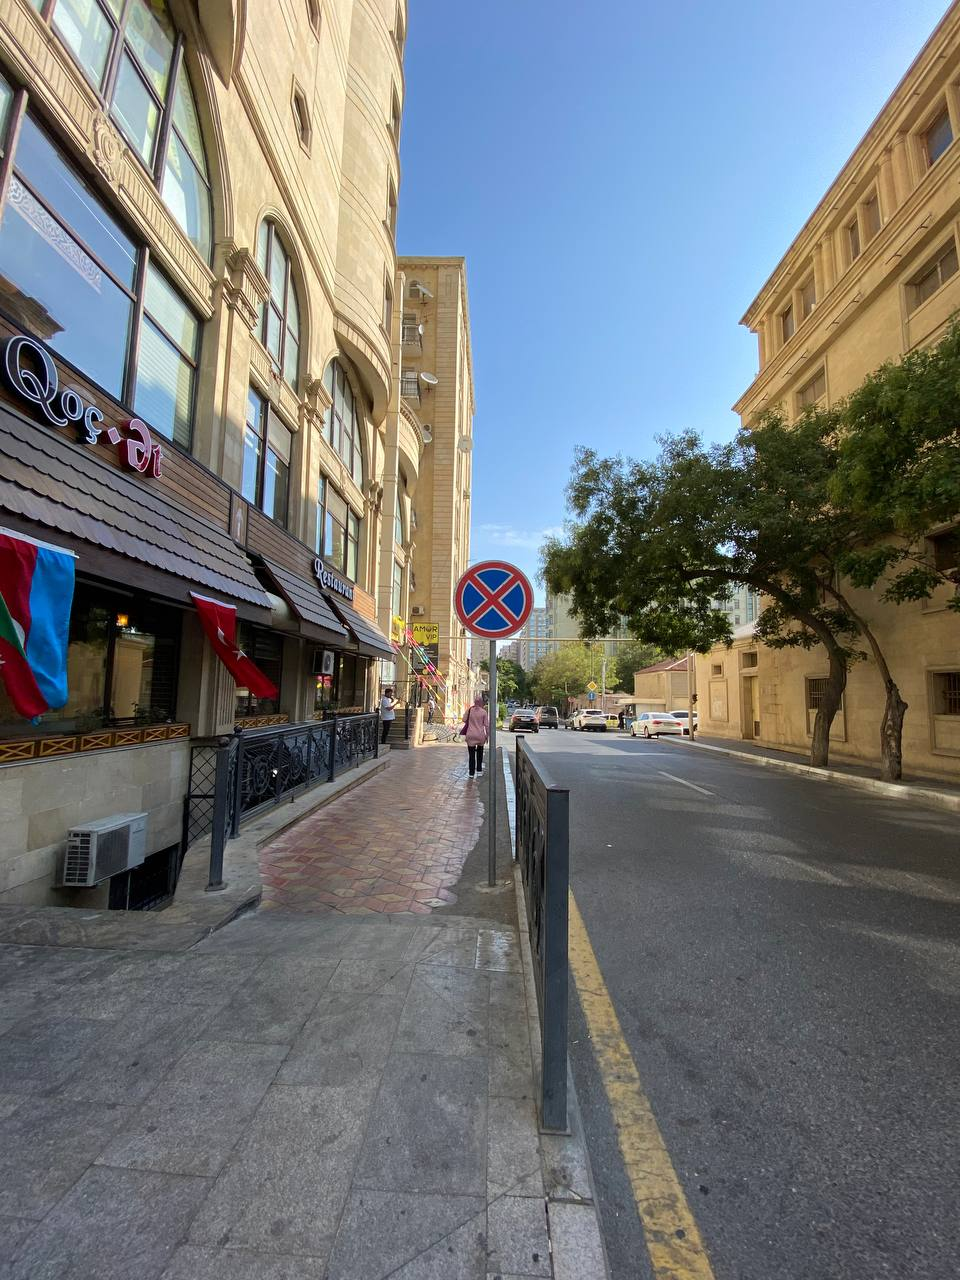No Parking: (453, 559, 533, 639)
